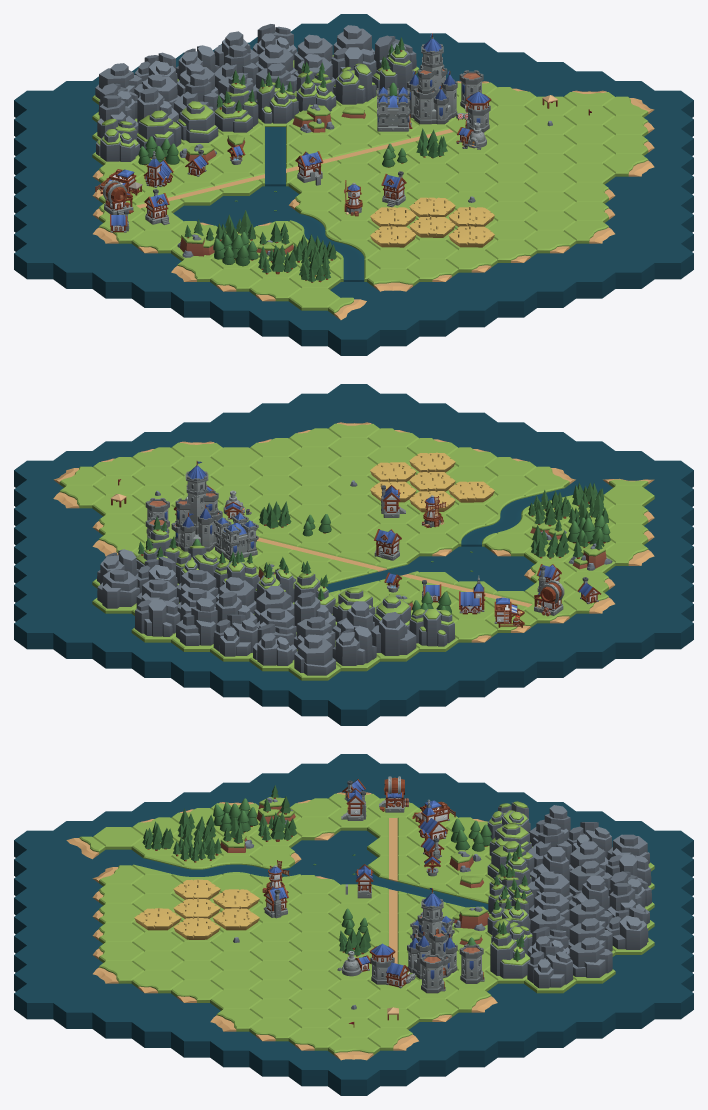
File: realm_world.glb
The picture shows the model from 3 angles, top to bottom: view 1: azimuth 30°, elevation 25°; view 2: azimuth 150°, elevation 25°; view 3: azimuth 270°, elevation 25°; orthographic projection.
Parts seen in each view (by area): view 1: building_castle_blue@4,-2, mountain_B_grass_trees@1,-4, hex_water@-8,8, mountain_C_grass_trees@2,-4, mountain_C_grass@-2,-4, hex_water@-8,7, hex_water@-7,8, hex_water@-8,5, hex_water@-5,8, hex_water@-8,0, hex_water@0,8, hex_water@-8,3 (+182 smaller); view 2: building_castle_blue@4,-2, hex_water@0,-8, building_barracks_blue@3,-2, mountain_C@3,-7, mountain_C@2,-7, mountain_B@4,-7, mountain_C_grass@-2,-4, mountain_C@5,-7, hex_water@-1,-7, hex_water@1,-8, hex_water@-3,-5, hex_water@3,-8 (+184 smaller); view 3: building_castle_blue@4,-2, hex_water@8,0, mountain_C@6,-5, mountain_B_grass_trees@5,-4, hex_water@7,1, hex_water@8,-1, hex_water@5,3, hex_water@8,-3, hex_water@0,8, hex_water@8,-8, mountain_C@5,-7, hex_water@3,5 (+182 smaller).
Part boxes in pixels (x1,y1,x2,y2): building_castle_blue@4,-2: (407,33,457,124); mountain_B_grass_trees@1,-4: (214,70,258,132); hex_water@-8,8: (328,320,379,355); mountain_C_grass_trees@2,-4: (256,72,298,123); mountain_C_grass@-2,-4: (96,118,139,161); hex_water@-8,7: (288,310,340,346); hex_water@-7,8: (367,310,419,346); hex_water@-8,5: (210,291,261,327); hex_water@-5,8: (446,291,497,327); hex_water@-8,0: (14,243,65,279); hex_water@0,8: (642,243,693,279); hex_water@-8,3: (131,272,183,307); building_castle_blue@4,-2: (171,461,222,551); hex_water@0,-8: (328,690,379,725); building_barracks_blue@3,-2: (214,513,258,560); mountain_C@3,-7: (213,614,257,656); mountain_C@2,-7: (253,623,296,665); mountain_B@4,-7: (176,597,217,645); mountain_C_grass@-2,-4: (409,608,455,646); mountain_C@5,-7: (134,599,180,636); hex_water@-1,-7: (367,680,419,716); hex_water@1,-8: (288,680,340,716); hex_water@-3,-5: (446,661,497,697); hex_water@3,-8: (210,661,261,697); building_castle_blue@4,-2: (407,888,457,979); hex_water@8,0: (328,1060,379,1095); mountain_C@6,-5: (527,946,573,988); mountain_B_grass_trees@5,-4: (490,921,530,978); hex_water@7,1: (288,1050,340,1086); hex_water@8,-1: (367,1050,419,1086); hex_water@5,3: (210,1031,261,1067); hex_water@8,-3: (446,1031,497,1067); hex_water@0,8: (14,983,65,1019); hex_water@8,-8: (642,983,693,1019); mountain_C@5,-7: (605,907,648,949); hex_water@3,5: (131,1012,183,1047).
Size of the model in its own units: 34 by 4.98 by 30.02.
1 material, 1 textured.
